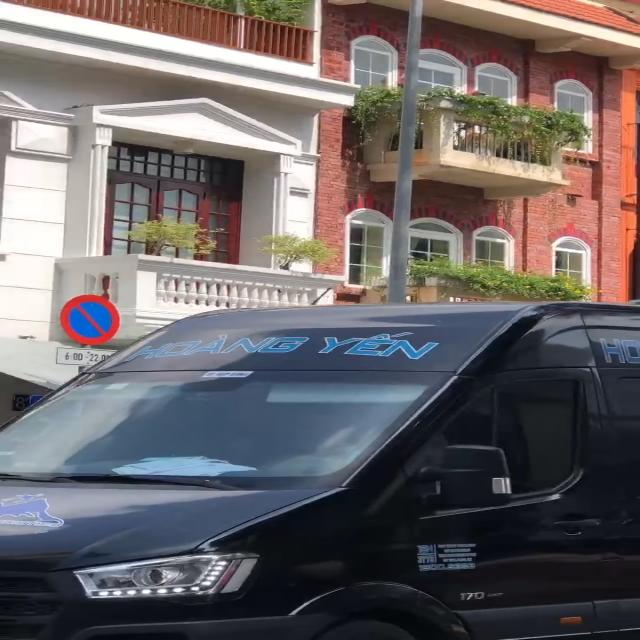Bien bao cam do xe: (59, 292, 128, 346)
